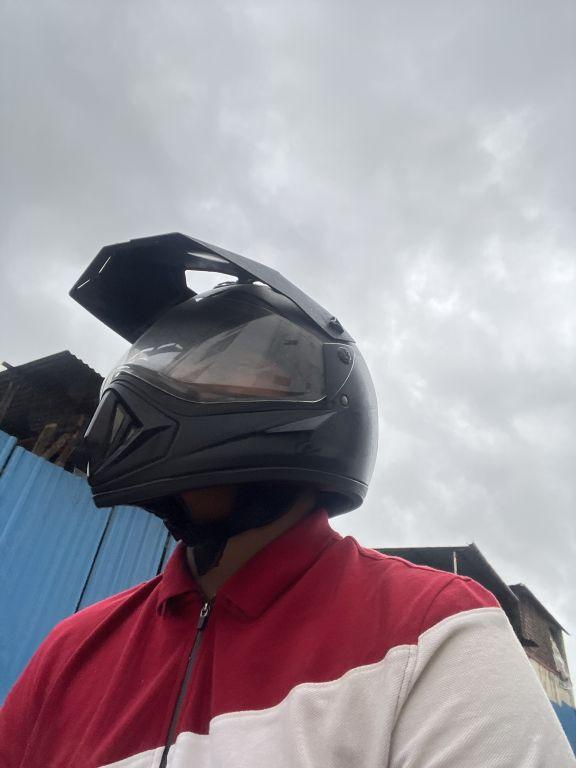helmet: (45, 217, 398, 529)
